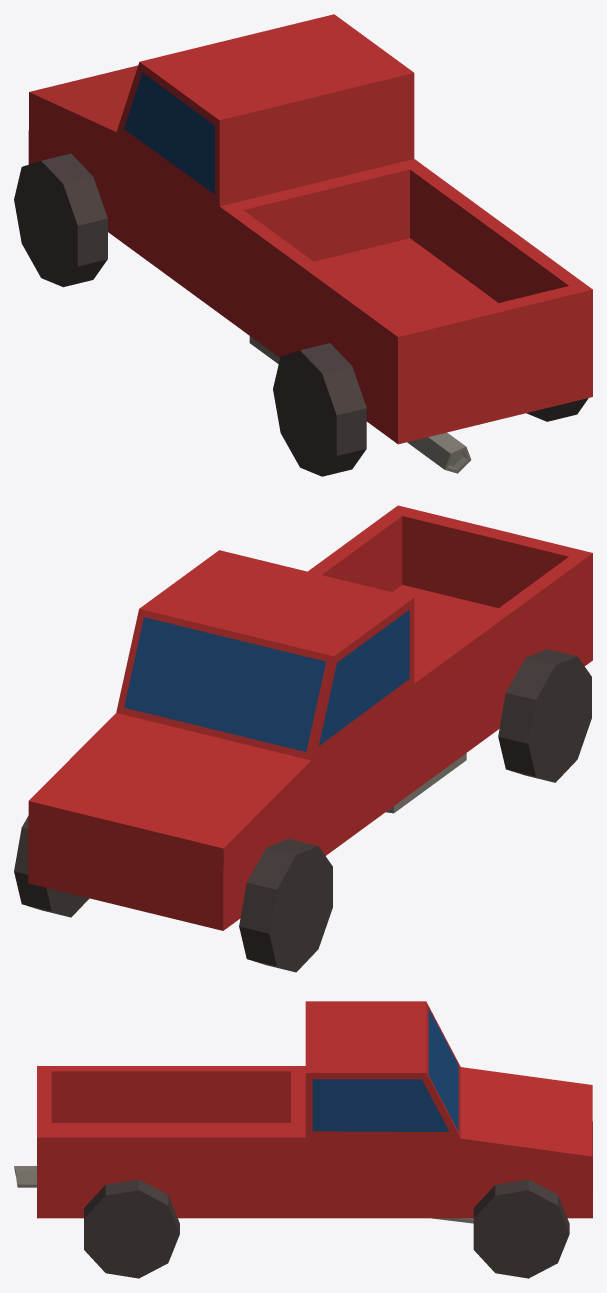
Rendered from truck.glb.
3 views of the same model, one above another, from view 1: azimuth 30°, elevation 25°; view 2: azimuth 150°, elevation 25°; view 3: azimuth 270°, elevation 25° (orthographic). The views are drawn at different scales.
Visible parts, largest first — view 1: truck body, wheelBL, wheelFL, exhaust back, wheelBR; view 2: truck body, wheelFL, wheelBL, wheelFR, back axle.001; view 3: truck body, wheelFR, wheelBR, exhaust back.
Part boxes in pixels (box(x1,y1,x2,y2)): truck body: box(28, 14, 592, 444); wheelBL: box(273, 343, 366, 476); wheelFL: box(14, 153, 107, 287); exhaust back: box(407, 432, 471, 473); wheelBR: box(526, 398, 588, 421); truck body: box(28, 505, 592, 930); wheelFL: box(239, 838, 332, 972); wheelBL: box(498, 649, 591, 782); wheelFR: box(14, 816, 89, 917); back axle.001: box(386, 753, 466, 813); truck body: box(37, 1001, 592, 1218); wheelFR: box(473, 1179, 569, 1278); wheelBR: box(84, 1179, 179, 1278); exhaust back: box(14, 1166, 36, 1187).
Bounding box in the file's own units: 3.67 × 3.56 × 9.6.
